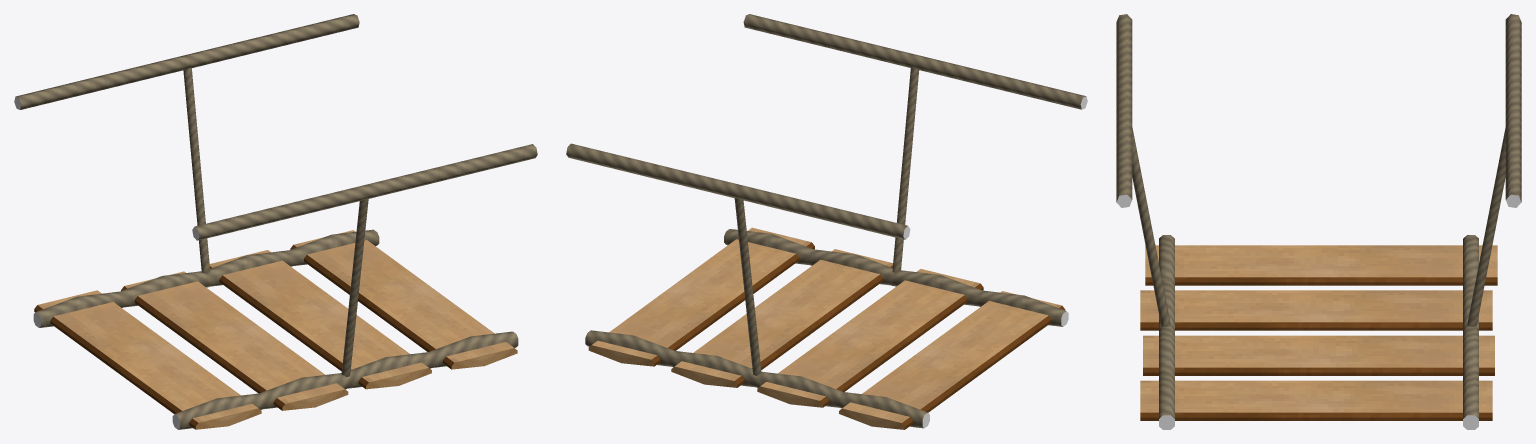
Rendered from Prop_Bridge_Rope_Middle_Basic_1x1.glb.
The picture shows the model from 3 angles, left to right: view 1: azimuth 30°, elevation 25°; view 2: azimuth 150°, elevation 25°; view 3: azimuth 270°, elevation 25°; orthographic projection. The views are drawn at different scales.
Visible parts, largest first — view 1: Prop_Bridge_Rope_Middle_Basic_1x1; view 2: Prop_Bridge_Rope_Middle_Basic_1x1; view 3: Prop_Bridge_Rope_Middle_Basic_1x1.
Part boxes in pixels (bbox=[...]): Prop_Bridge_Rope_Middle_Basic_1x1: bbox=[14, 14, 537, 429]; Prop_Bridge_Rope_Middle_Basic_1x1: bbox=[566, 14, 1087, 429]; Prop_Bridge_Rope_Middle_Basic_1x1: bbox=[1116, 14, 1521, 429].
Size of what is drawn, in the model's own units: 100 by 62.35 by 94.84.
Materials: 5 (4 with a texture image).
